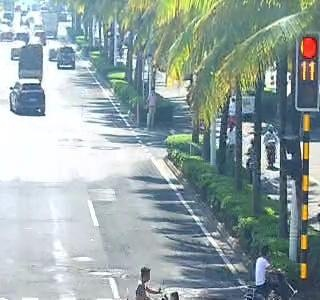redpeople: (298, 36, 319, 57)
redtime: (293, 61, 317, 85)
